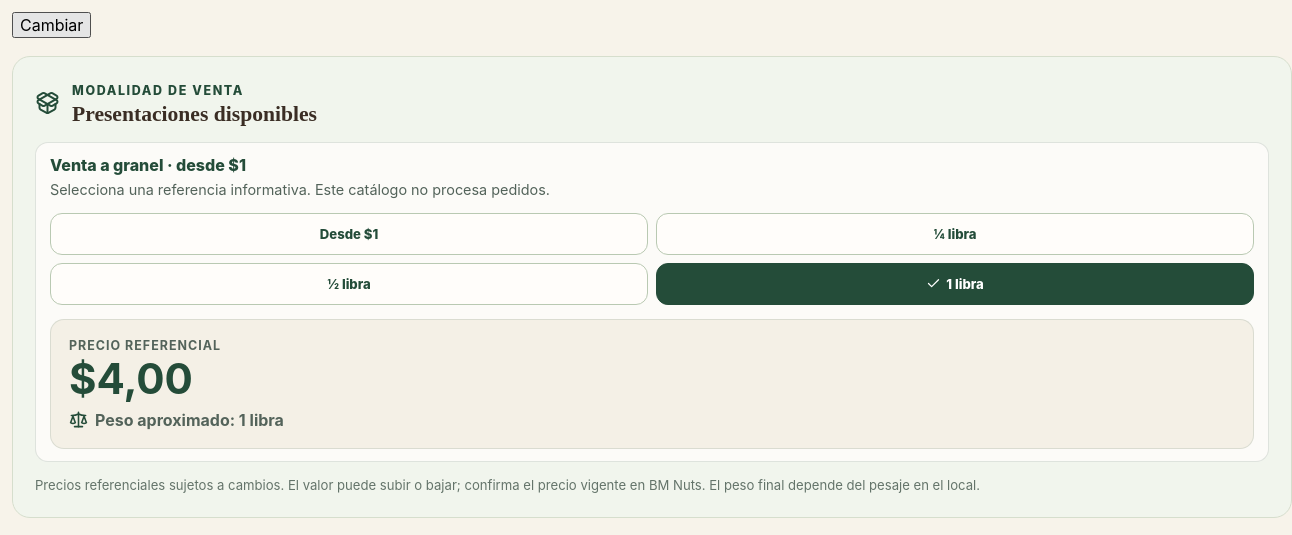
selector real de precios y presentaciones › restablece 1 libra al abrir otro producto
Click the button "Desde $1".
click(349, 234)  # box [50,213,648,255]
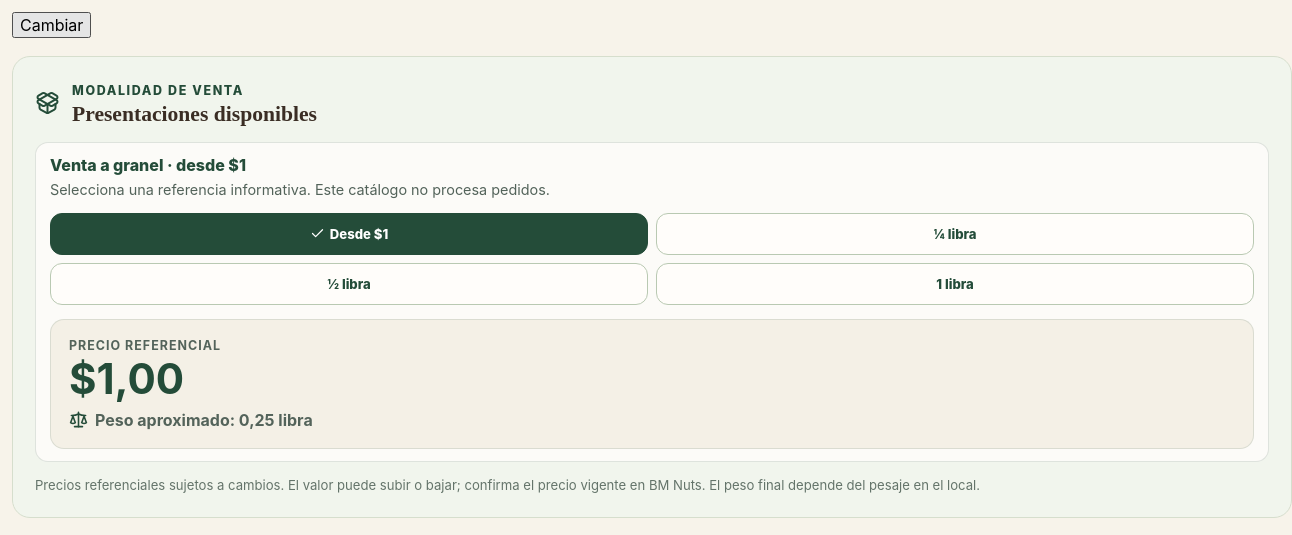
Now the button "Desde $1" is pressed, box [50,213,648,255]
Click the button with class "swap-product".
click(52, 25)  # box [12,12,91,38]
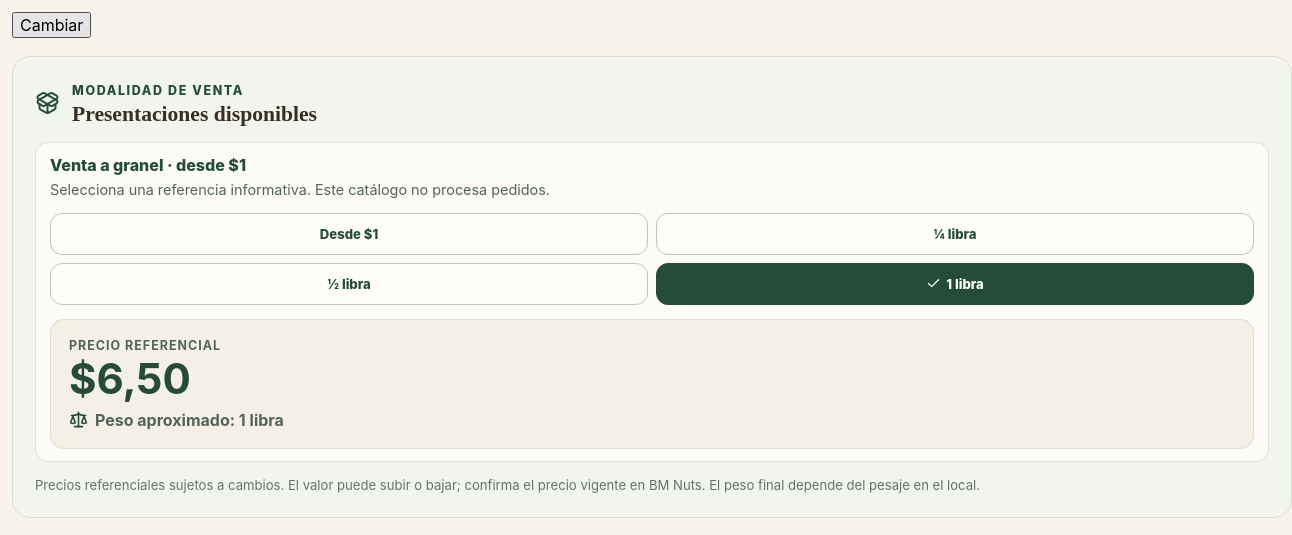
Now the element showing "Precio referencial $6,50 Peso aproximado: 1 libra" is shown, box [50,319,1254,449]
